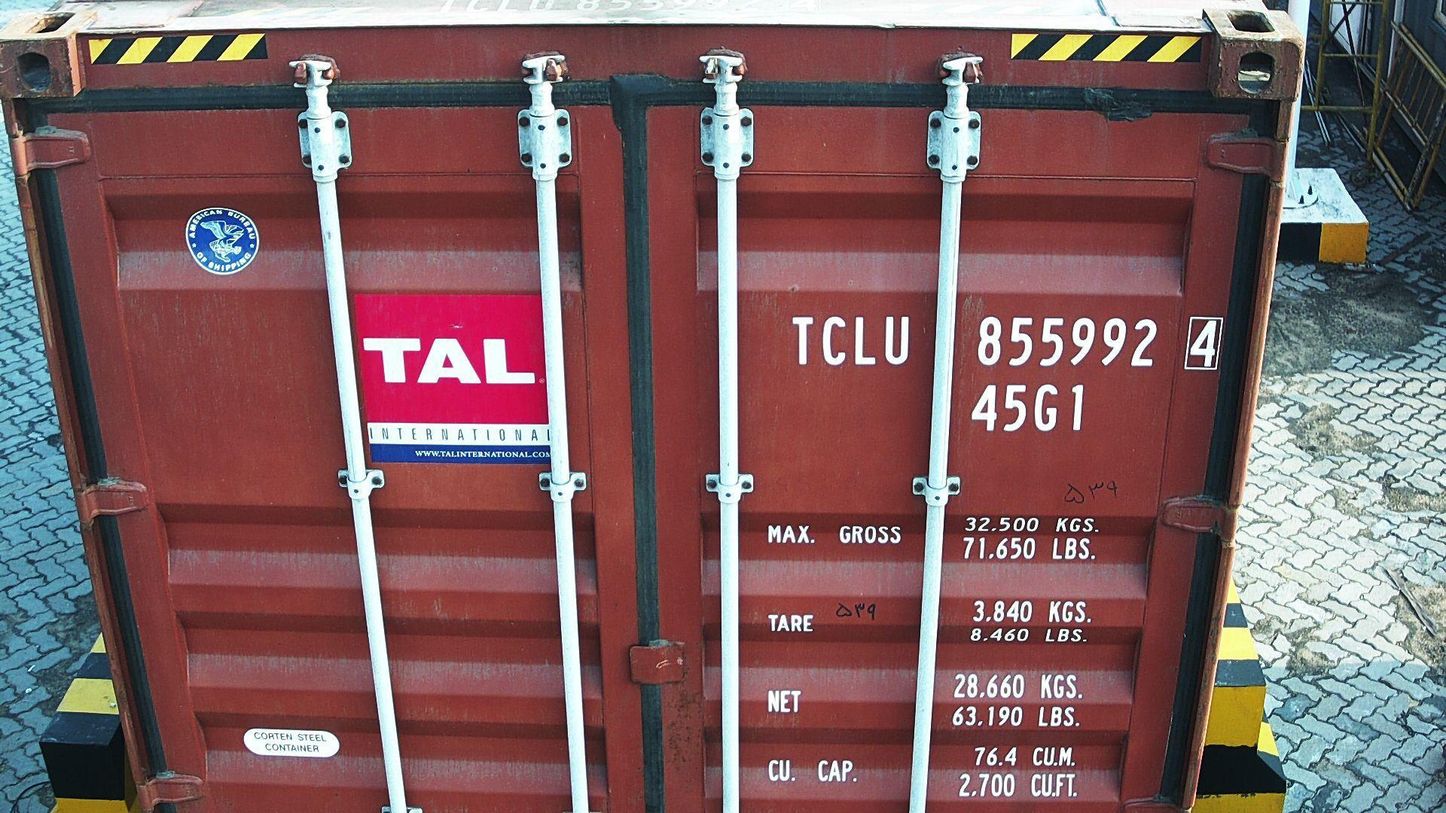container-numbers: (789, 312, 1233, 376), (967, 379, 1091, 436)
